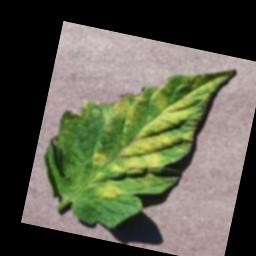Leaf_Mold: (53, 37, 236, 221)
